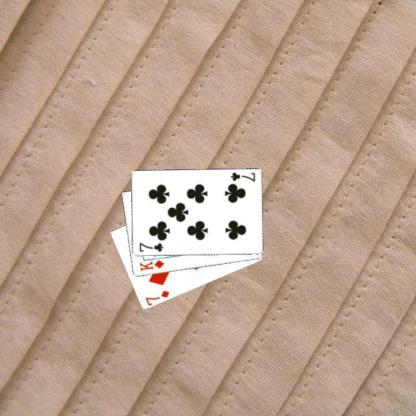7C: (136, 240, 164, 253), (228, 170, 256, 182)
7D: (143, 288, 170, 306)
KD: (137, 258, 165, 272)
